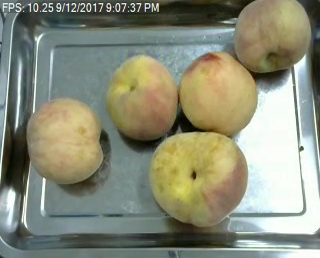Peach: (149, 131, 249, 229), (25, 95, 104, 185), (178, 51, 258, 134), (107, 54, 179, 140), (233, 0, 311, 73)
